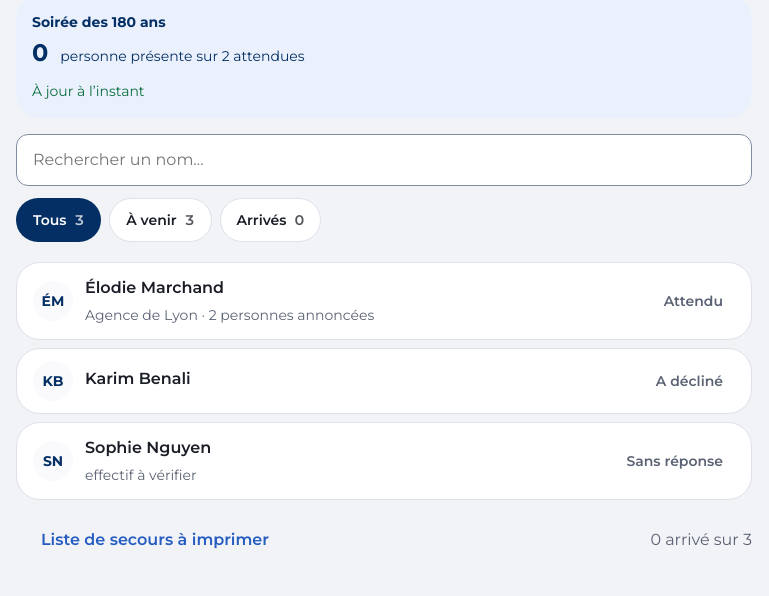
Test: poste d’accueil › change le statut écrit dès le pointage, avant toute réponse du serveur
This screenshot has width=769, height=596.
Click the button "Élodie Marchand".
click(53, 301)  # box [17,263,751,339]
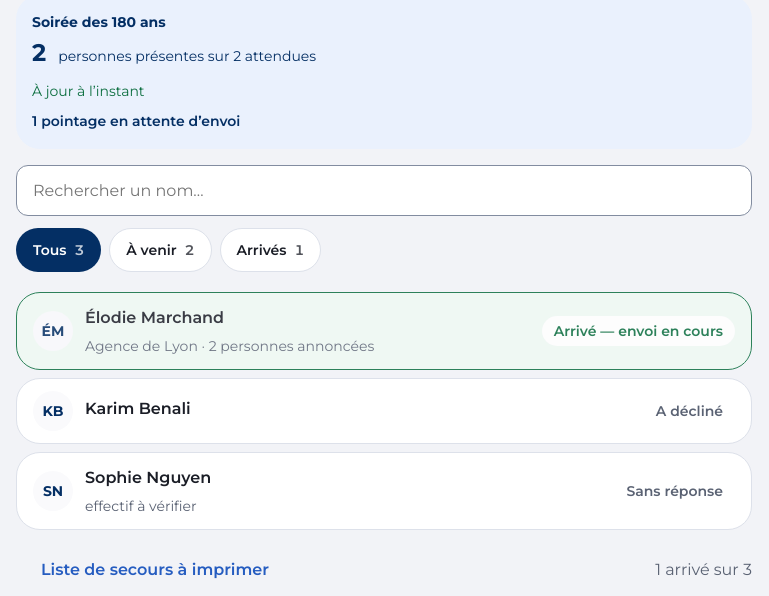
Expected: the text "Arrivé — envoi en cours" is shown, [542,316,735,346]
Expected: the text "1 pointage en attente d’envoi" is shown, [32,112,240,130]
